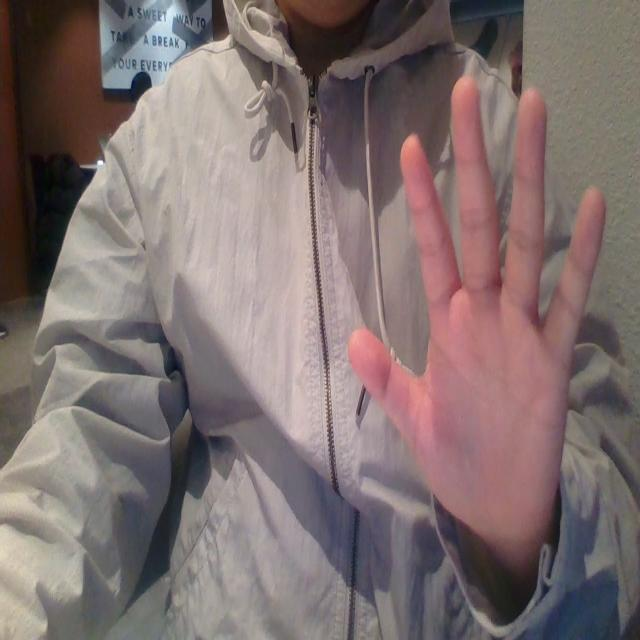hand: (344, 74, 614, 568)
